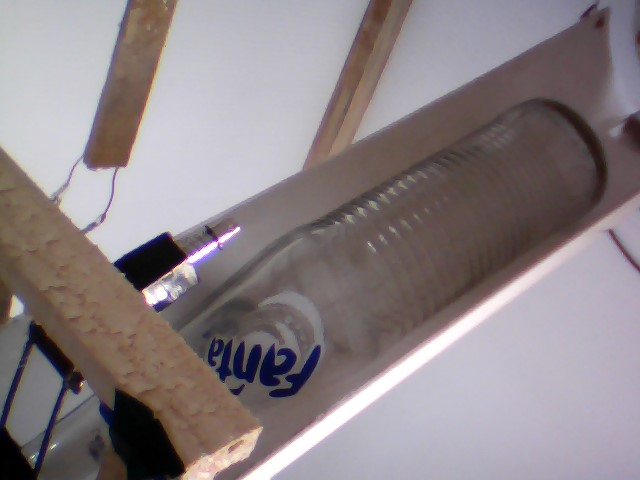vidrio: (154, 94, 610, 413)
